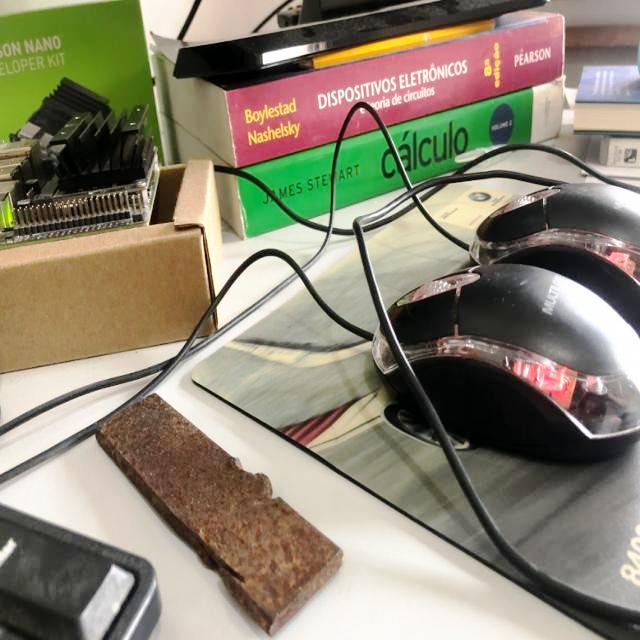Corrosion: (95, 392, 345, 639)
